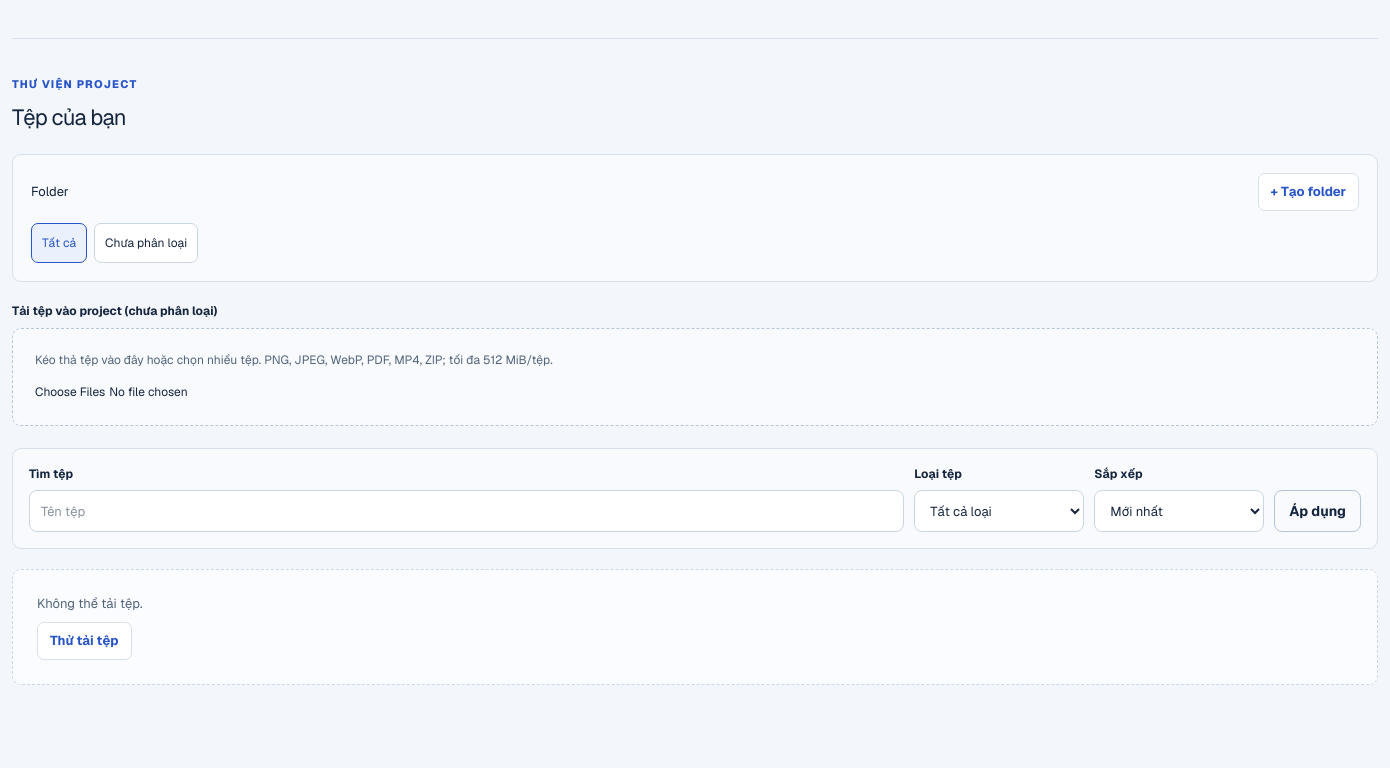
Test case: FileExplorer › offers retry when listing fails and distinguishes empty results
Expected: the message shows "Không thể tải tệp", [37, 595, 143, 612]
Click the button "Thử tải tệp" at (84, 640), box [37, 622, 132, 660]
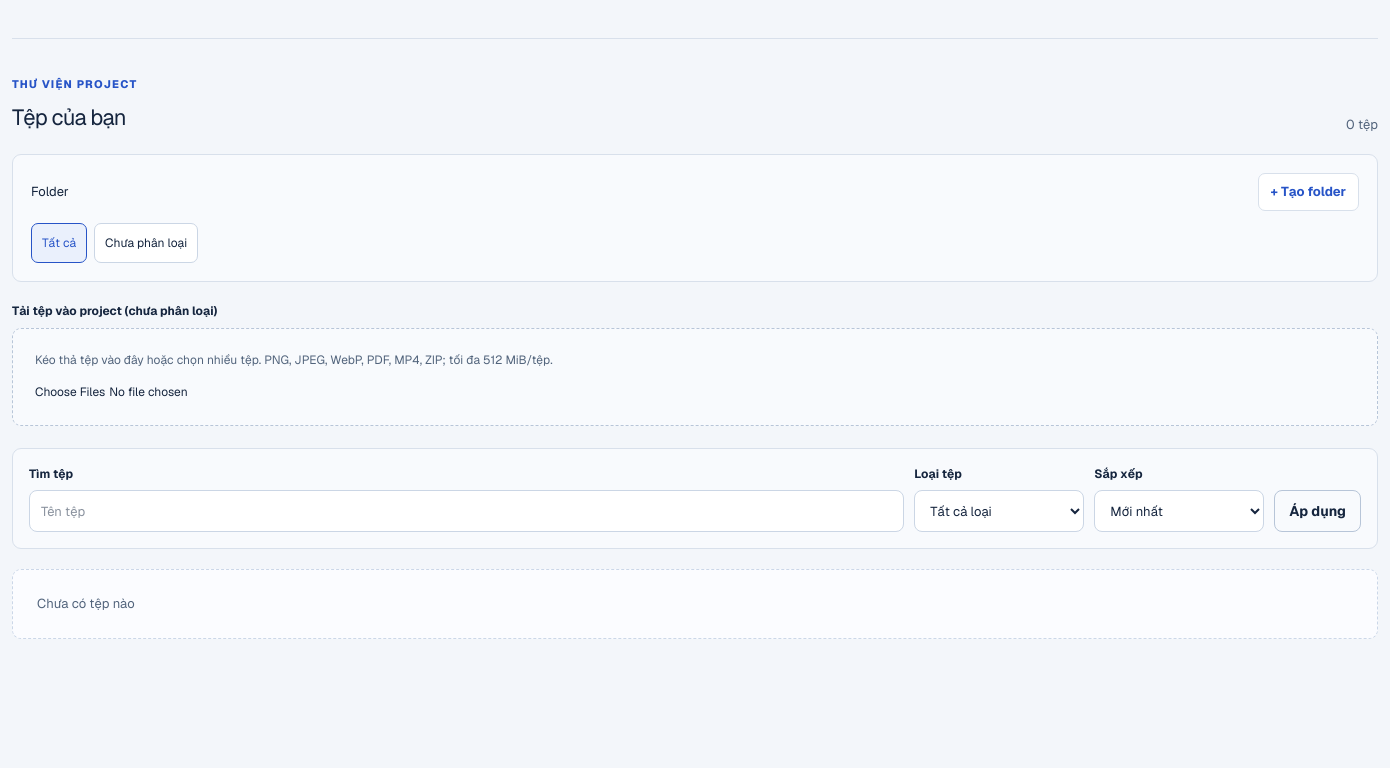
Now the text "Chưa có tệp nào" is shown, box [12, 569, 1378, 638]
